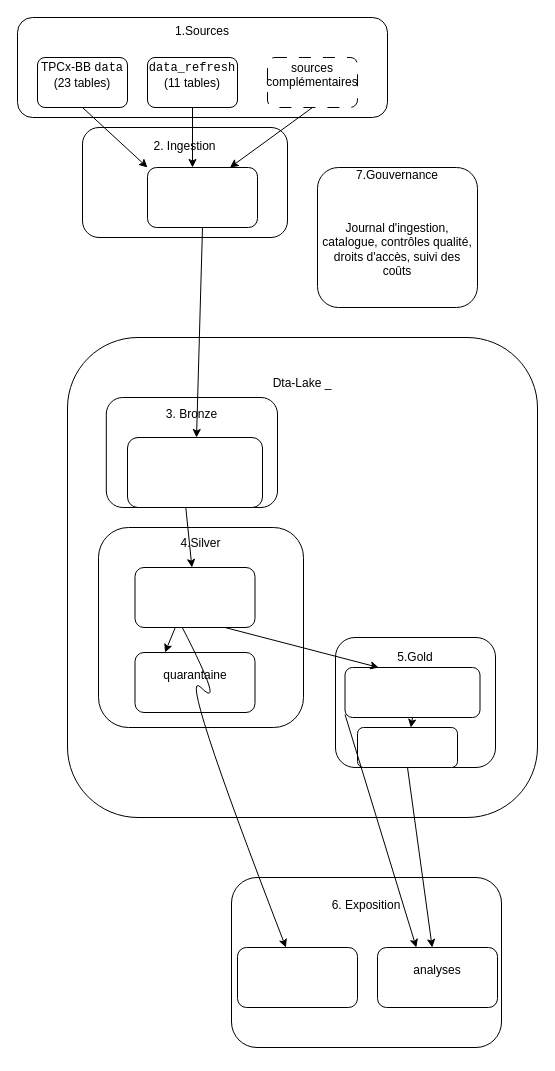
Some shapes in this 555 by 1071 pixel diagram are drawn without their labels. Each missing label, with the centre of its shape:
"agrégats KPI" goes at pixel 407 747.
"Apache NiFi – batch – provenance et empreinte" goes at pixel 202 197.
"Fichiers .dat d'origine, non modifiés, en lecture seule" goes at pixel 194 472.
"Modèle en étoile (faits et dimensions)" goes at pixel 412 692.
"Parquet typé, nettoyé, dédoublonné ; clients pseudonymisés" goes at pixel 194 597.
"Tableaux de bord par métie" goes at pixel 297 977.
